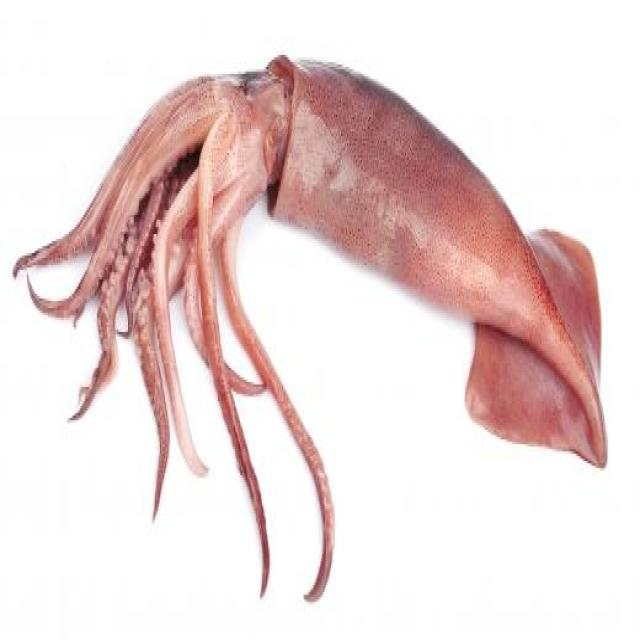SQUID: (23, 43, 640, 540)
